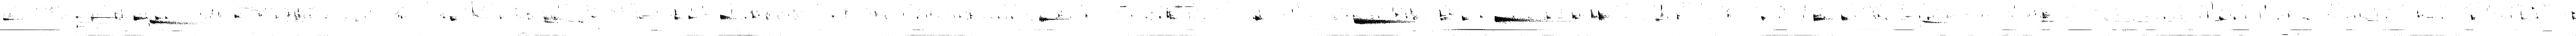meteor: (1354, 18, 1410, 25), (1495, 16, 1536, 23), (149, 20, 191, 25), (1038, 15, 1065, 21), (90, 15, 115, 21), (1597, 10, 1608, 21), (1439, 10, 1451, 20), (1812, 13, 1825, 21), (133, 15, 148, 21), (544, 16, 559, 23), (1166, 10, 1176, 20), (674, 8, 682, 20), (471, 7, 478, 18), (1922, 20, 1943, 23), (720, 15, 733, 20), (1840, 15, 1850, 21), (1255, 15, 1263, 21), (1411, 13, 1419, 20), (1590, 10, 1597, 18), (1572, 13, 1580, 20), (2042, 11, 2050, 18), (1462, 15, 1469, 21), (154, 15, 163, 20), (688, 15, 697, 20), (2218, 16, 2226, 21), (450, 16, 457, 21), (752, 13, 757, 18), (1395, 11, 1400, 16), (1761, 16, 1766, 21), (2471, 15, 2476, 20), (233, 15, 240, 18), (3, 18, 13, 20), (1546, 15, 1551, 18)
